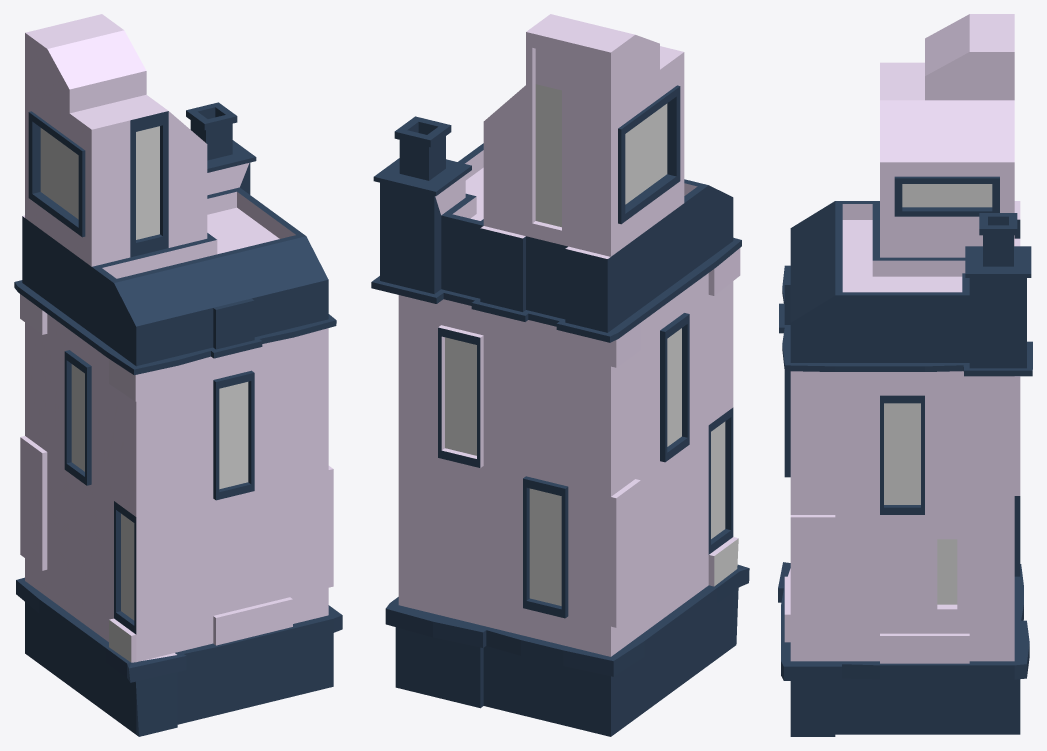
File: V1_Buildings_Rico.fbx
3 views of the same model, side by side, from view 1: azimuth 30°, elevation 25°; view 2: azimuth 150°, elevation 25°; view 3: azimuth 270°, elevation 25° (orthographic). The views are drawn at different scales.
Parts seen in each view (by area): view 1: Cube; view 2: Cube; view 3: Cube.
Boxes of the visible parts, <box> form: Cube: <box>14,14,342,736</box>; Cube: <box>371,14,749,736</box>; Cube: <box>778,14,1032,736</box>.
Size of the model in its own units: 1849 by 5003 by 1847.
